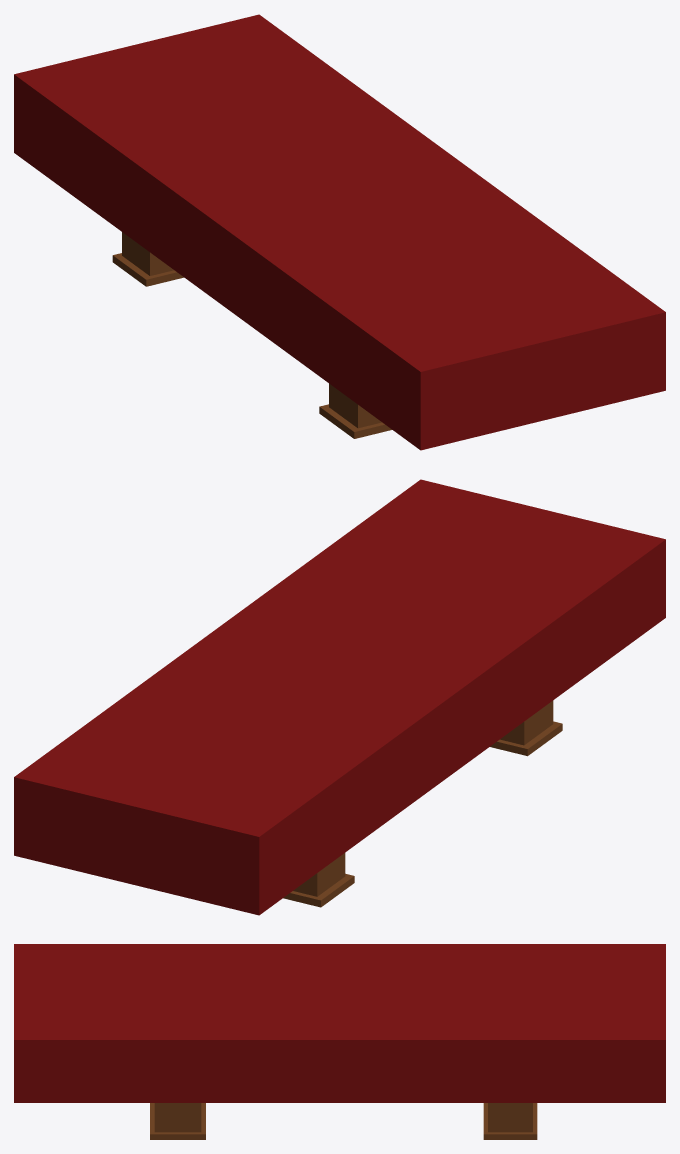
Rendered from Table.fbx.
3 views of the same model, one above another, from view 1: azimuth 30°, elevation 25°; view 2: azimuth 150°, elevation 25°; view 3: azimuth 270°, elevation 25° (orthographic). The views are drawn at different scales.
Parts seen in each view (by area): view 1: Cube; view 2: Cube; view 3: Cube.
Boxes of the visible parts, x1,y1,x2,y2 form: Cube: [14, 14, 665, 450]; Cube: [14, 479, 665, 915]; Cube: [14, 944, 665, 1139].
Size of the model in its own units: 304 by 158 by 872.
